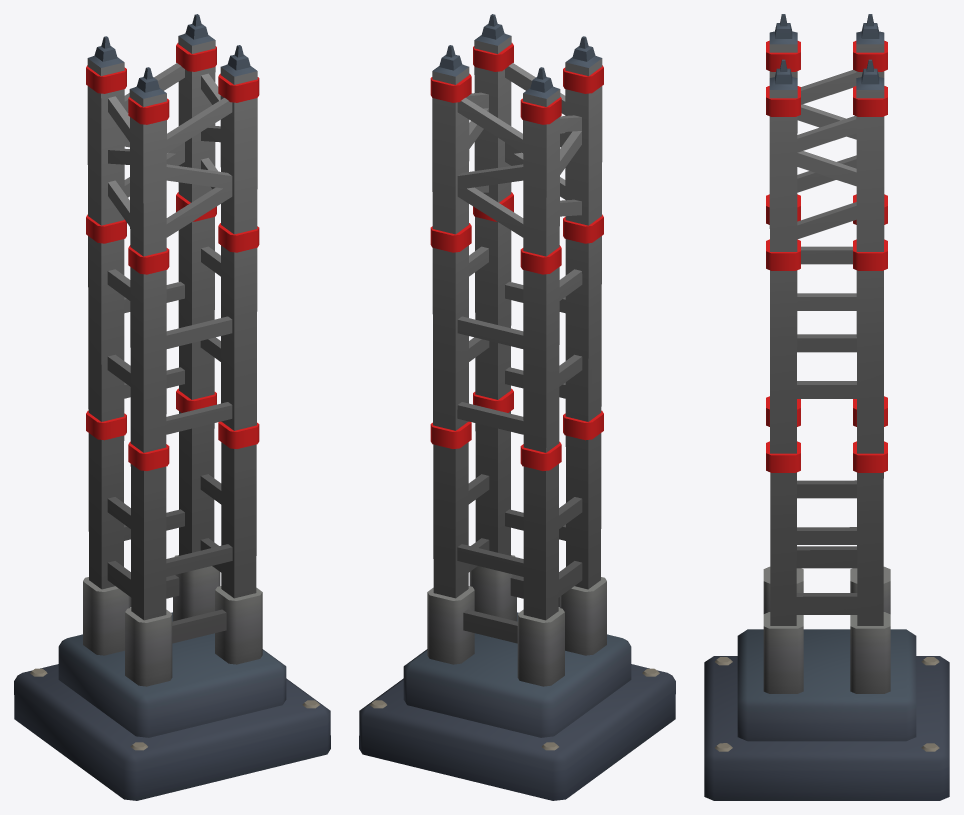
Rendered from SignalTower_2_A.fbx.
The picture shows the model from 3 angles, left to right: view 1: azimuth 30°, elevation 25°; view 2: azimuth 150°, elevation 25°; view 3: azimuth 270°, elevation 25°; orthographic projection. The views are drawn at different scales.
Parts seen in each view (by area): view 1: SignalTower_2_A; view 2: SignalTower_2_A; view 3: SignalTower_2_A.
Part boxes in pixels (x1,y1,x2,y2): SignalTower_2_A: (14, 14, 330, 800); SignalTower_2_A: (359, 14, 675, 800); SignalTower_2_A: (704, 14, 949, 800).
Bounding box in the file's own units: 96.58 × 309 × 96.56.
